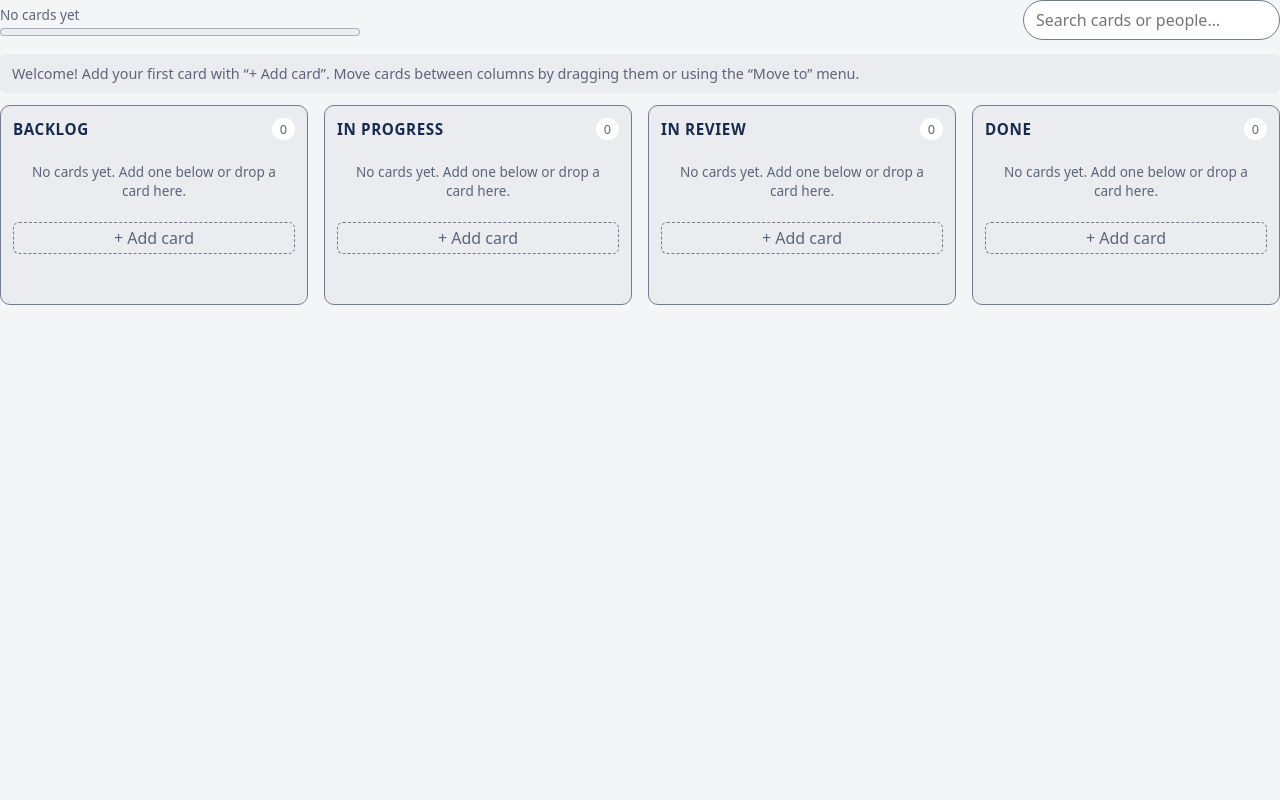
Test: creating a card › does not save a card without a title
Click the button "+ Add card" below "Backlog" at (154, 238), box [13,222,295,254]
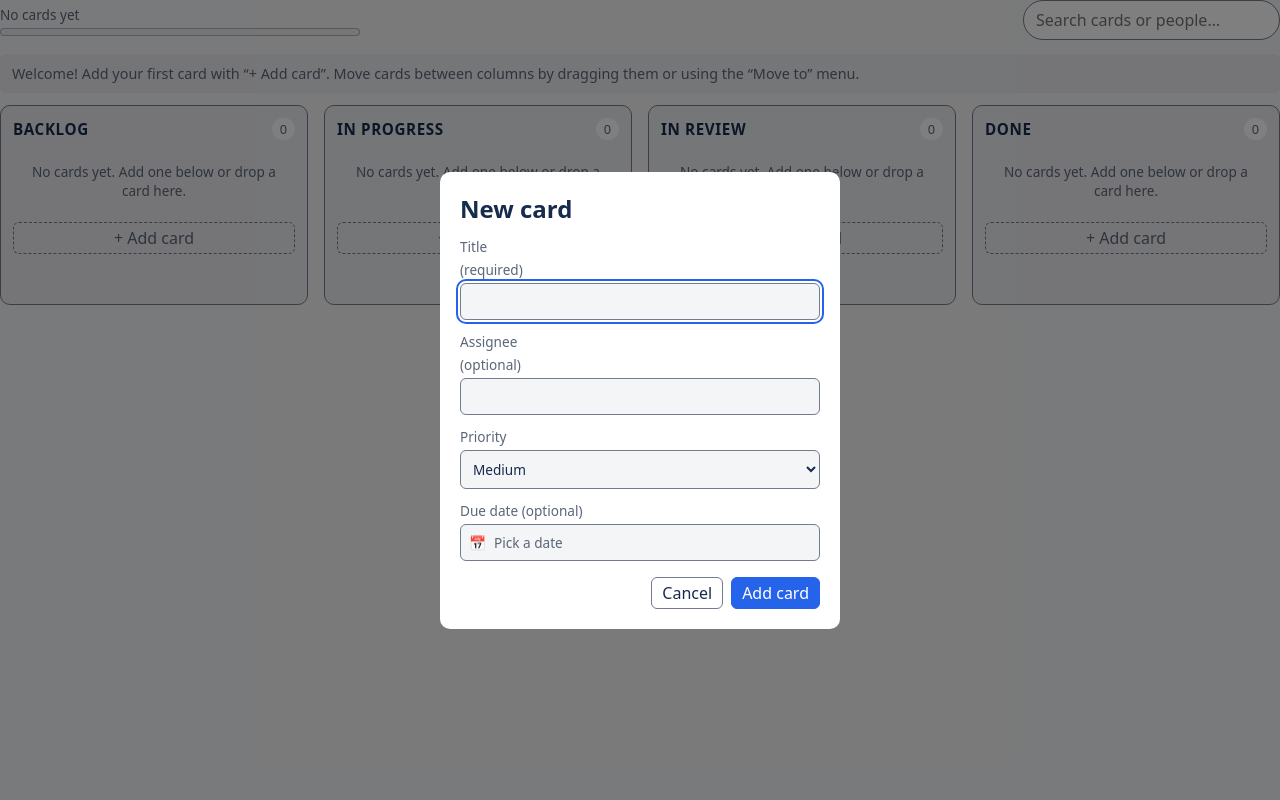
Click the button "Add card" at (776, 592), box [731,576,820,608]
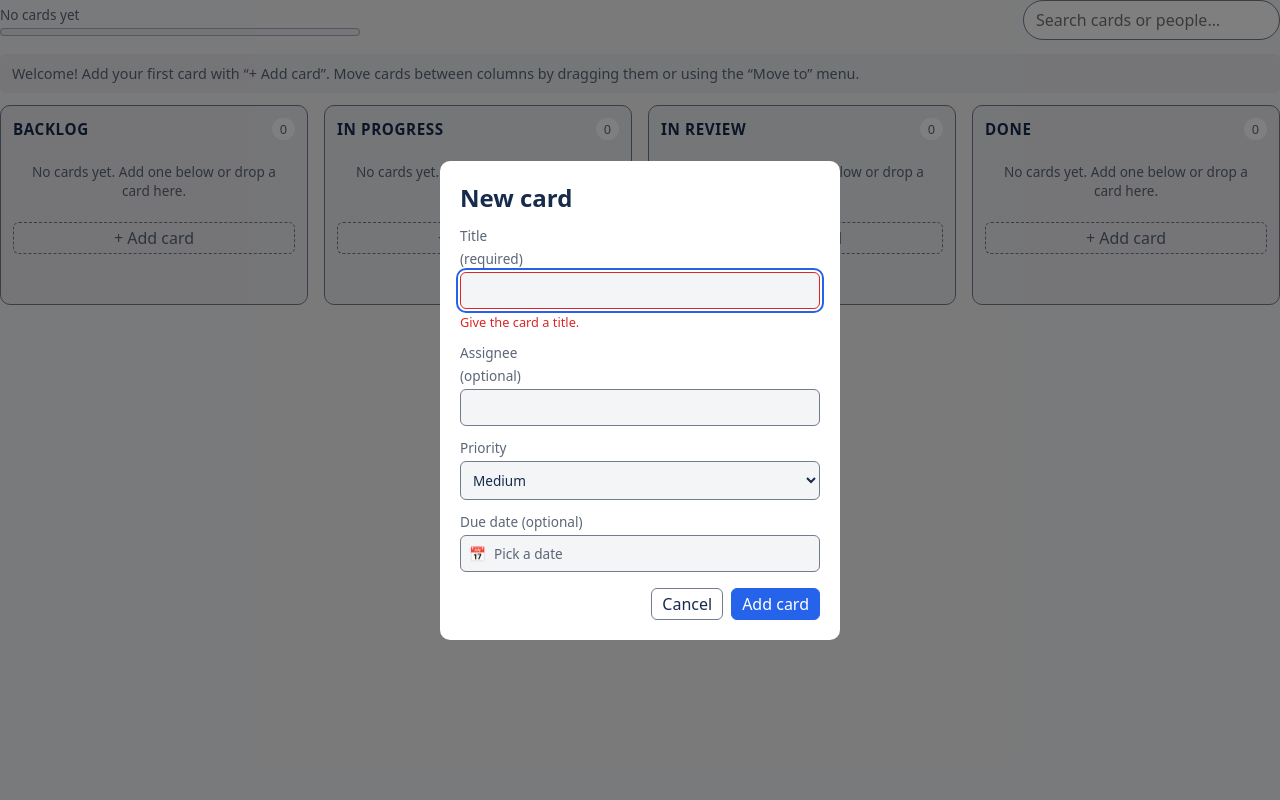
Result: the dialog is shown at [440,160,840,640]
Result: the text "Give the card a title." is shown at [460,312,579,330]
